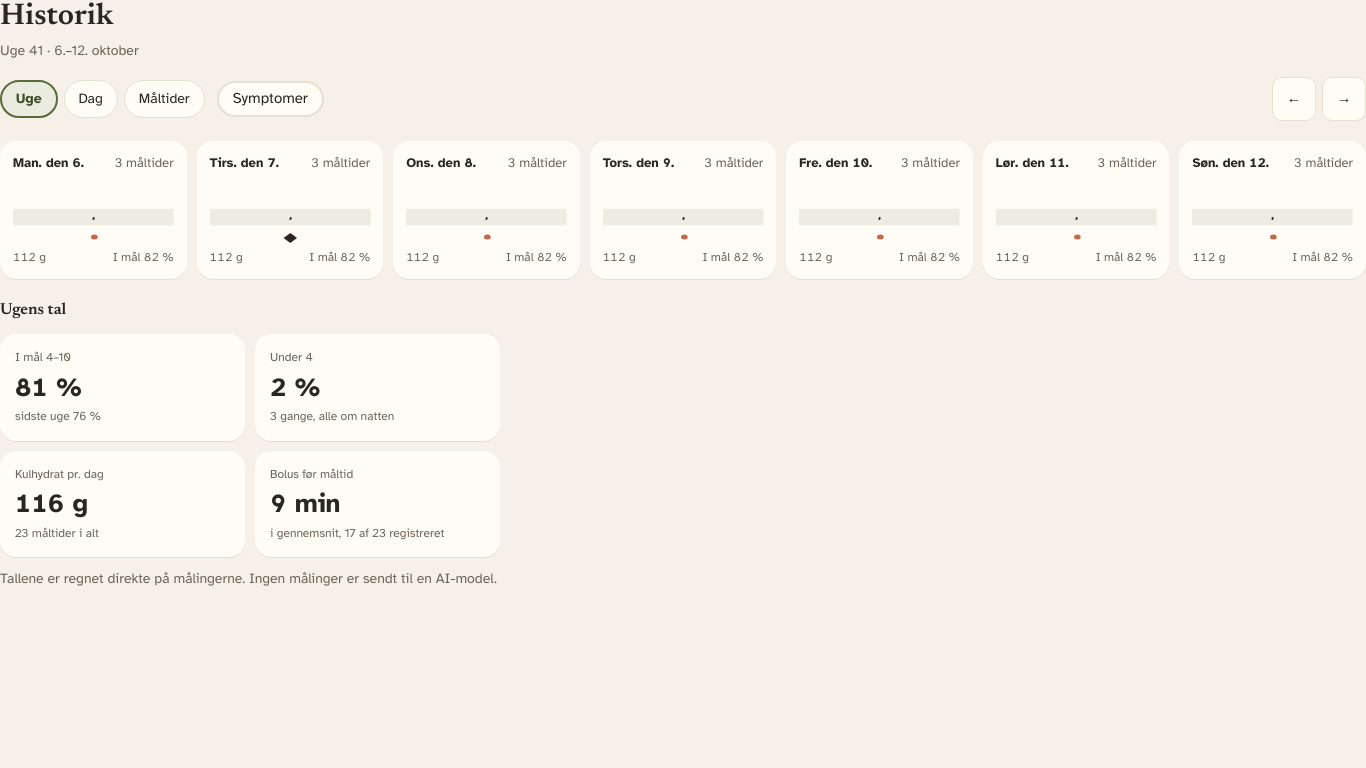
Test: symptoms on the week (v0.6.0 plan §5) › reads the seven days once, draws the diamond on its tile and opens the detail without readings
The image size is (1366, 768).
Expected: the element with test id "symptom-marker" is shown, 283,233 -> 297,243
Expected: the button "Ondt i maven kl. 12:00" is not shown
Click the button named "Ondt i maven kl. 12:00" at coordinates (290, 221), box 268,199 -> 312,243
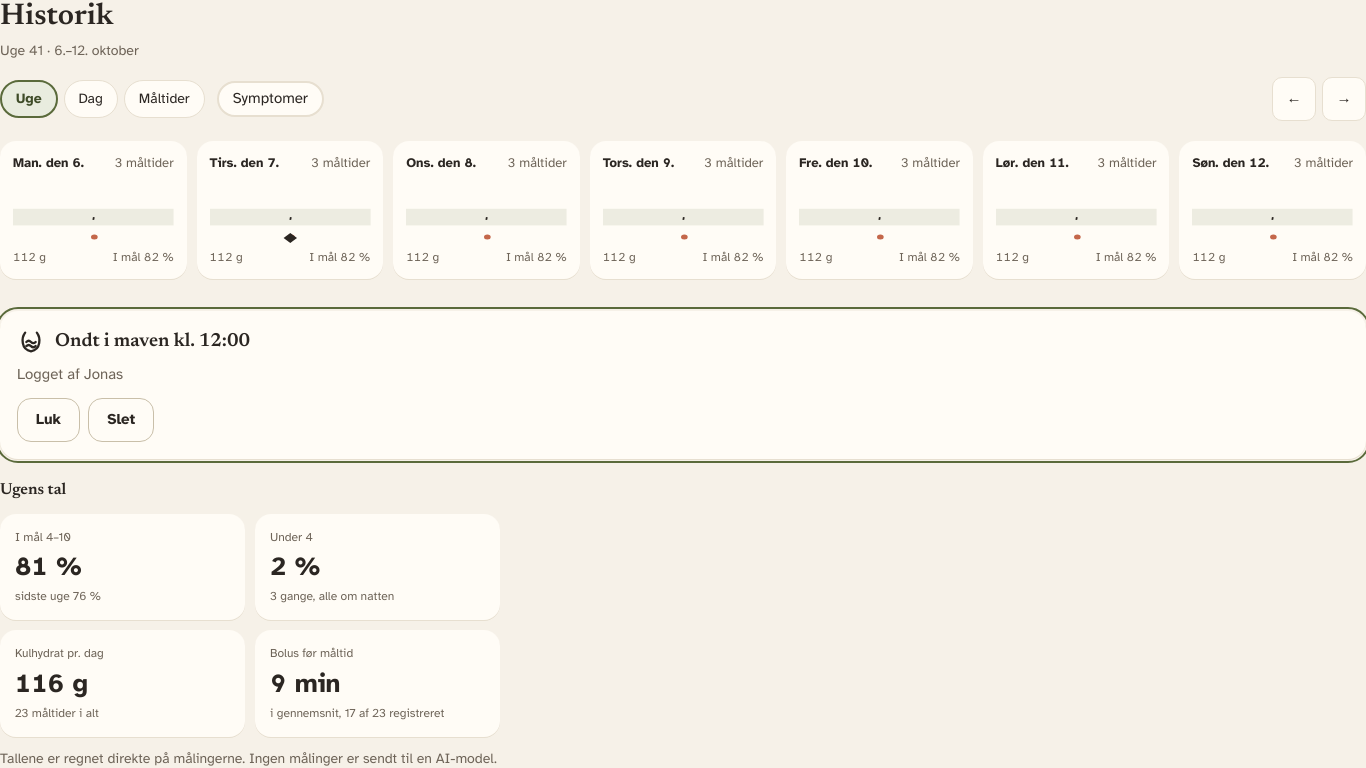
Result: the dialog "Ondt i maven kl. 12:00" shows "Logget af Jonas" at 17,365 -> 123,383
